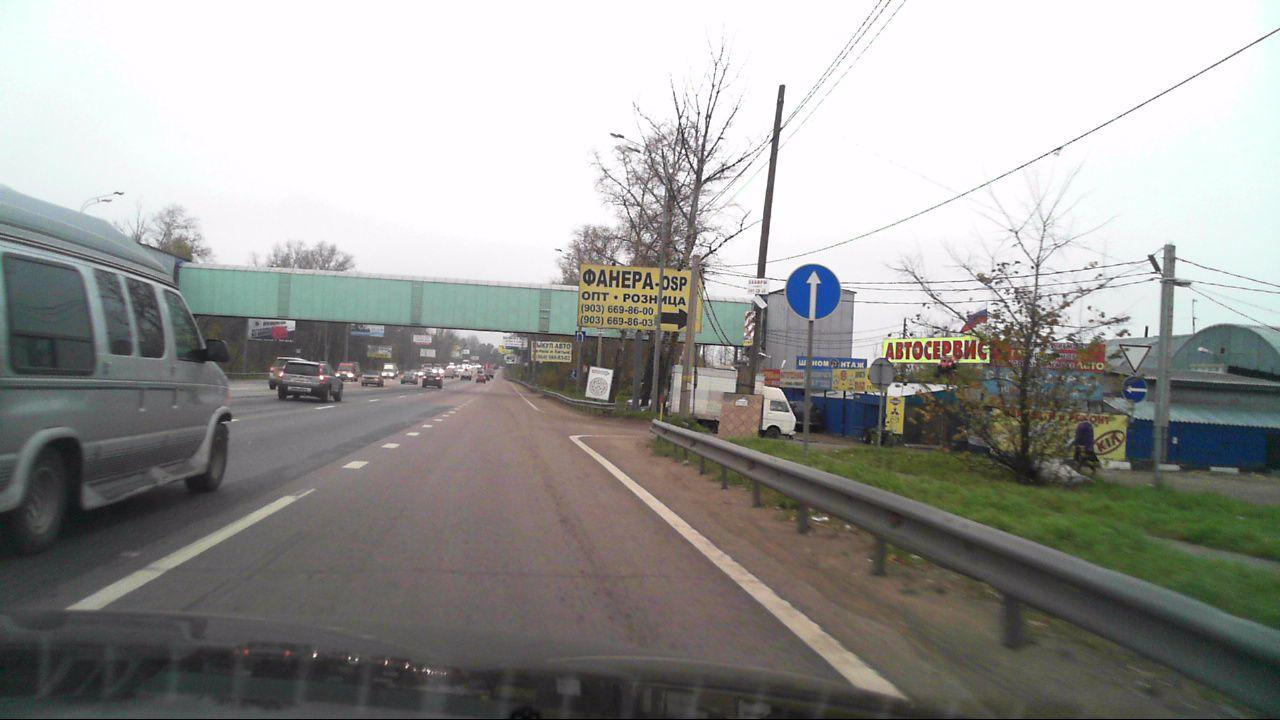obstructed_road_sign: (1116, 343, 1154, 375), (1120, 375, 1149, 404)
road_sign: (785, 262, 842, 320)
